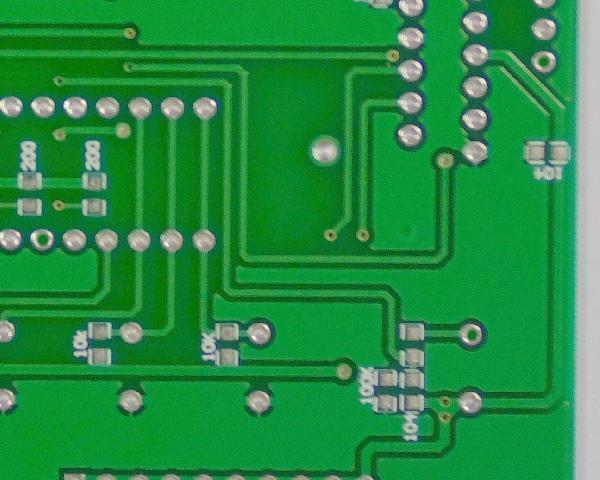missing hole: (451, 318, 491, 352), (526, 46, 562, 78), (27, 225, 59, 254)
